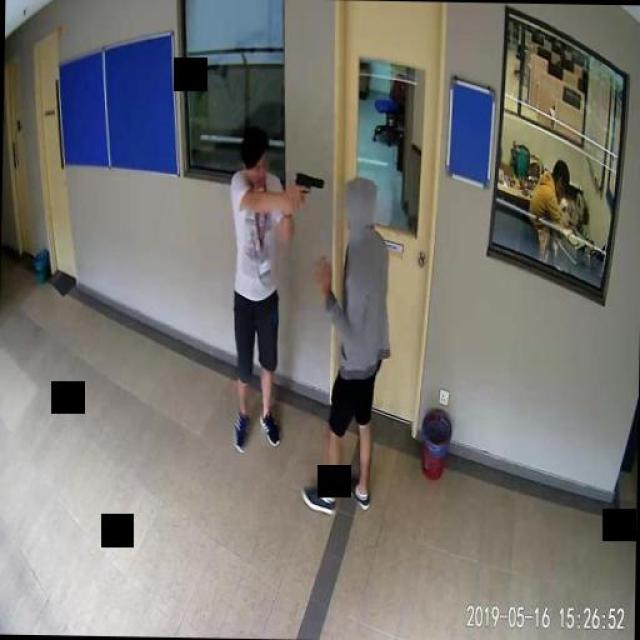gun: (294, 170, 324, 206)
